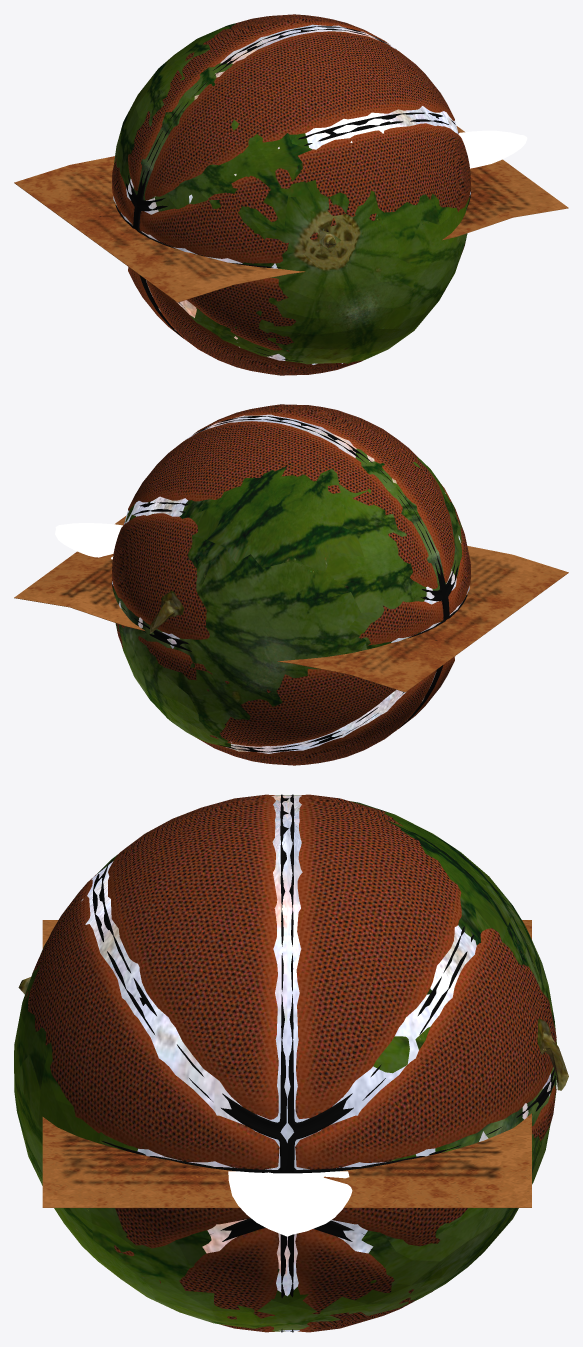
3 views of the same model, one above another, from view 1: azimuth 30°, elevation 25°; view 2: azimuth 150°, elevation 25°; view 3: azimuth 270°, elevation 25° (orthographic). The views are drawn at different scales.
Parts seen in each view (by area): view 1: basketball, watermelon, paper, ironball, feather; view 2: basketball, watermelon, paper, ironball, feather; view 3: basketball, watermelon, paper, ironball, feather.
Part boxes in pixels (x1,y1,x2,y2): basketball: (112,14,470,375); watermelon: (114,23,469,364); paper: (14,126,568,302); ironball: (113,24,470,364); feather: (459,130,527,168); basketball: (112,404,470,765); watermelon: (113,448,462,746); paper: (14,515,568,692); ironball: (112,414,469,753); feather: (55,523,122,559); basketball: (25,794,556,1332); watermelon: (14,795,568,1331); paper: (42,920,531,1207); ironball: (81,795,551,1331); feather: (228,1171,352,1236).
Bounding box in the file's own units: 0.8317 × 0.601 × 0.6194.
8 materials, 4 textured.
